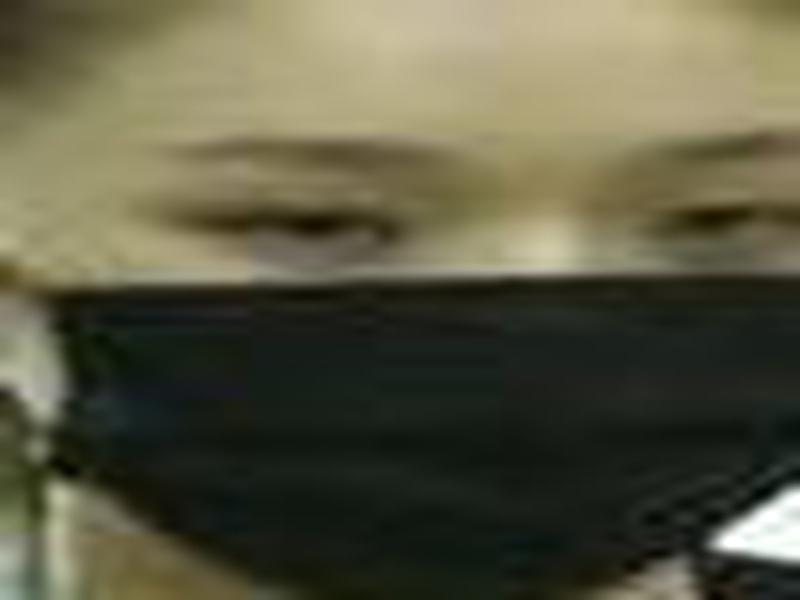with_mask: (5, 4, 800, 600)
